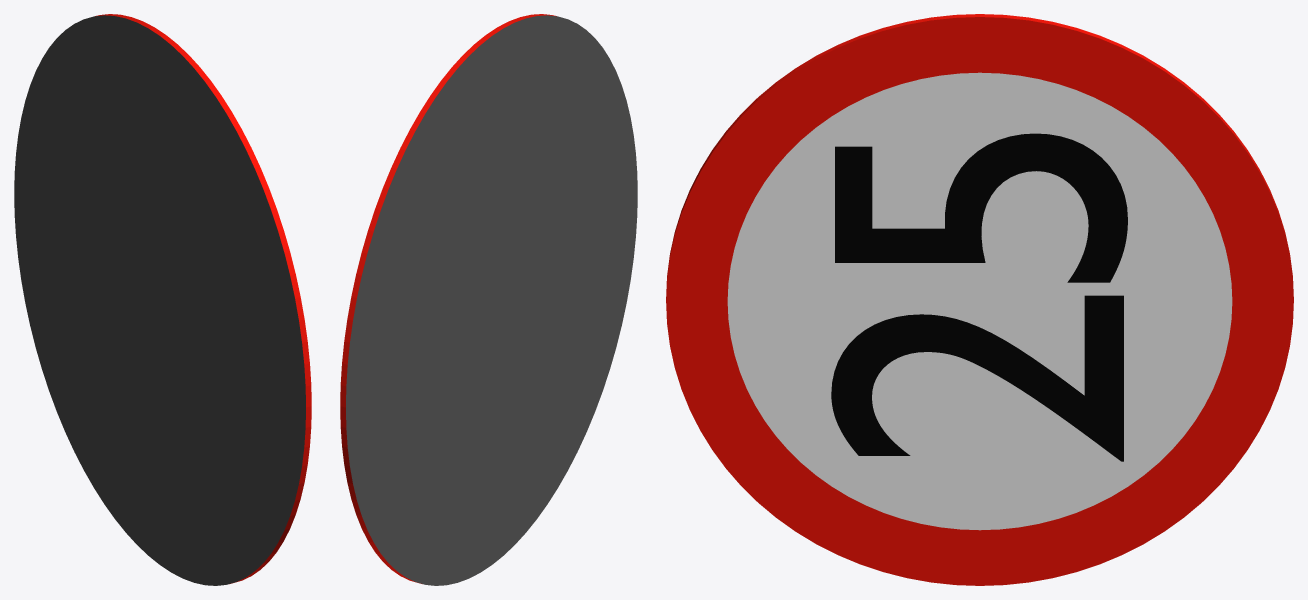
3 views of the same model, side by side, from view 1: azimuth 30°, elevation 25°; view 2: azimuth 150°, elevation 25°; view 3: azimuth 270°, elevation 25° (orthographic). The views are drawn at different scales.
Parts seen in each view (by area): view 1: 圆环; view 2: 圆环; view 3: 圆环, 文本.001.
Boxes of the visible parts, x1=… form: 圆环: x1=14, y1=14, x2=311, y2=585; 圆环: x1=340, y1=14, x2=637, y2=585; 圆环: x1=666, y1=14, x2=1293, y2=585; 文本.001: x1=831, y1=133, x2=1127, y2=461.
Bounding box in the file's own units: 0.0134 × 0.8 × 0.8.
